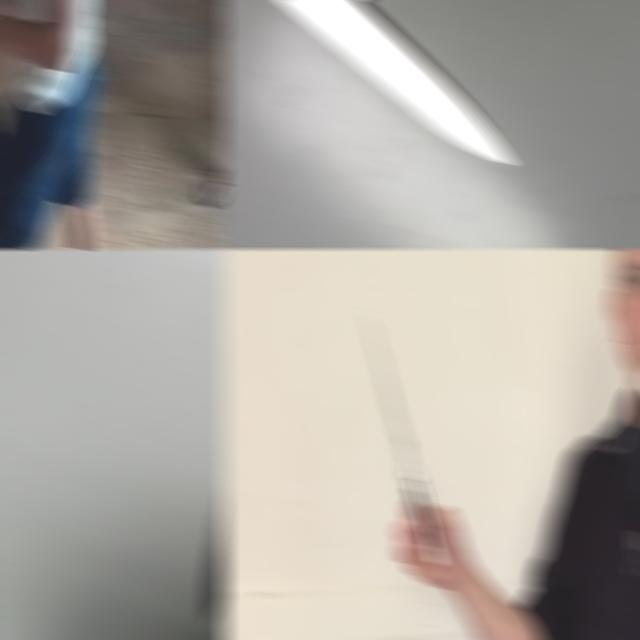Knife: (275, 0, 512, 164)
Knife_Handle: (362, 307, 466, 590)
